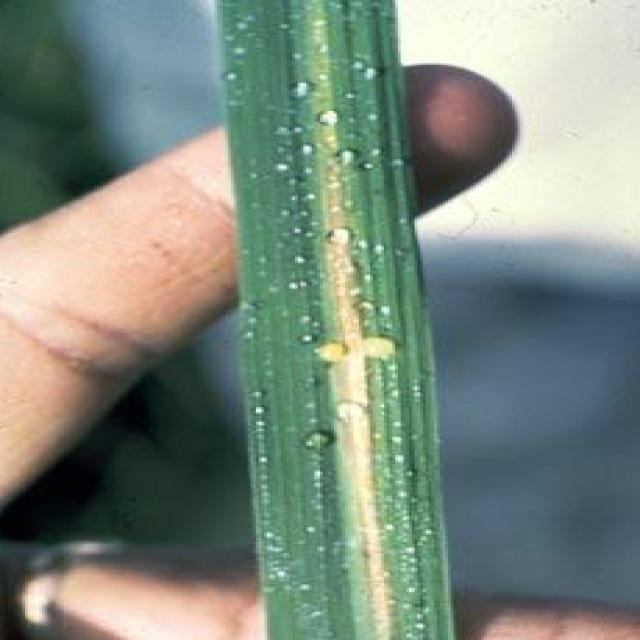Bacterial_Leaf_Blight: (292, 74, 414, 640)
